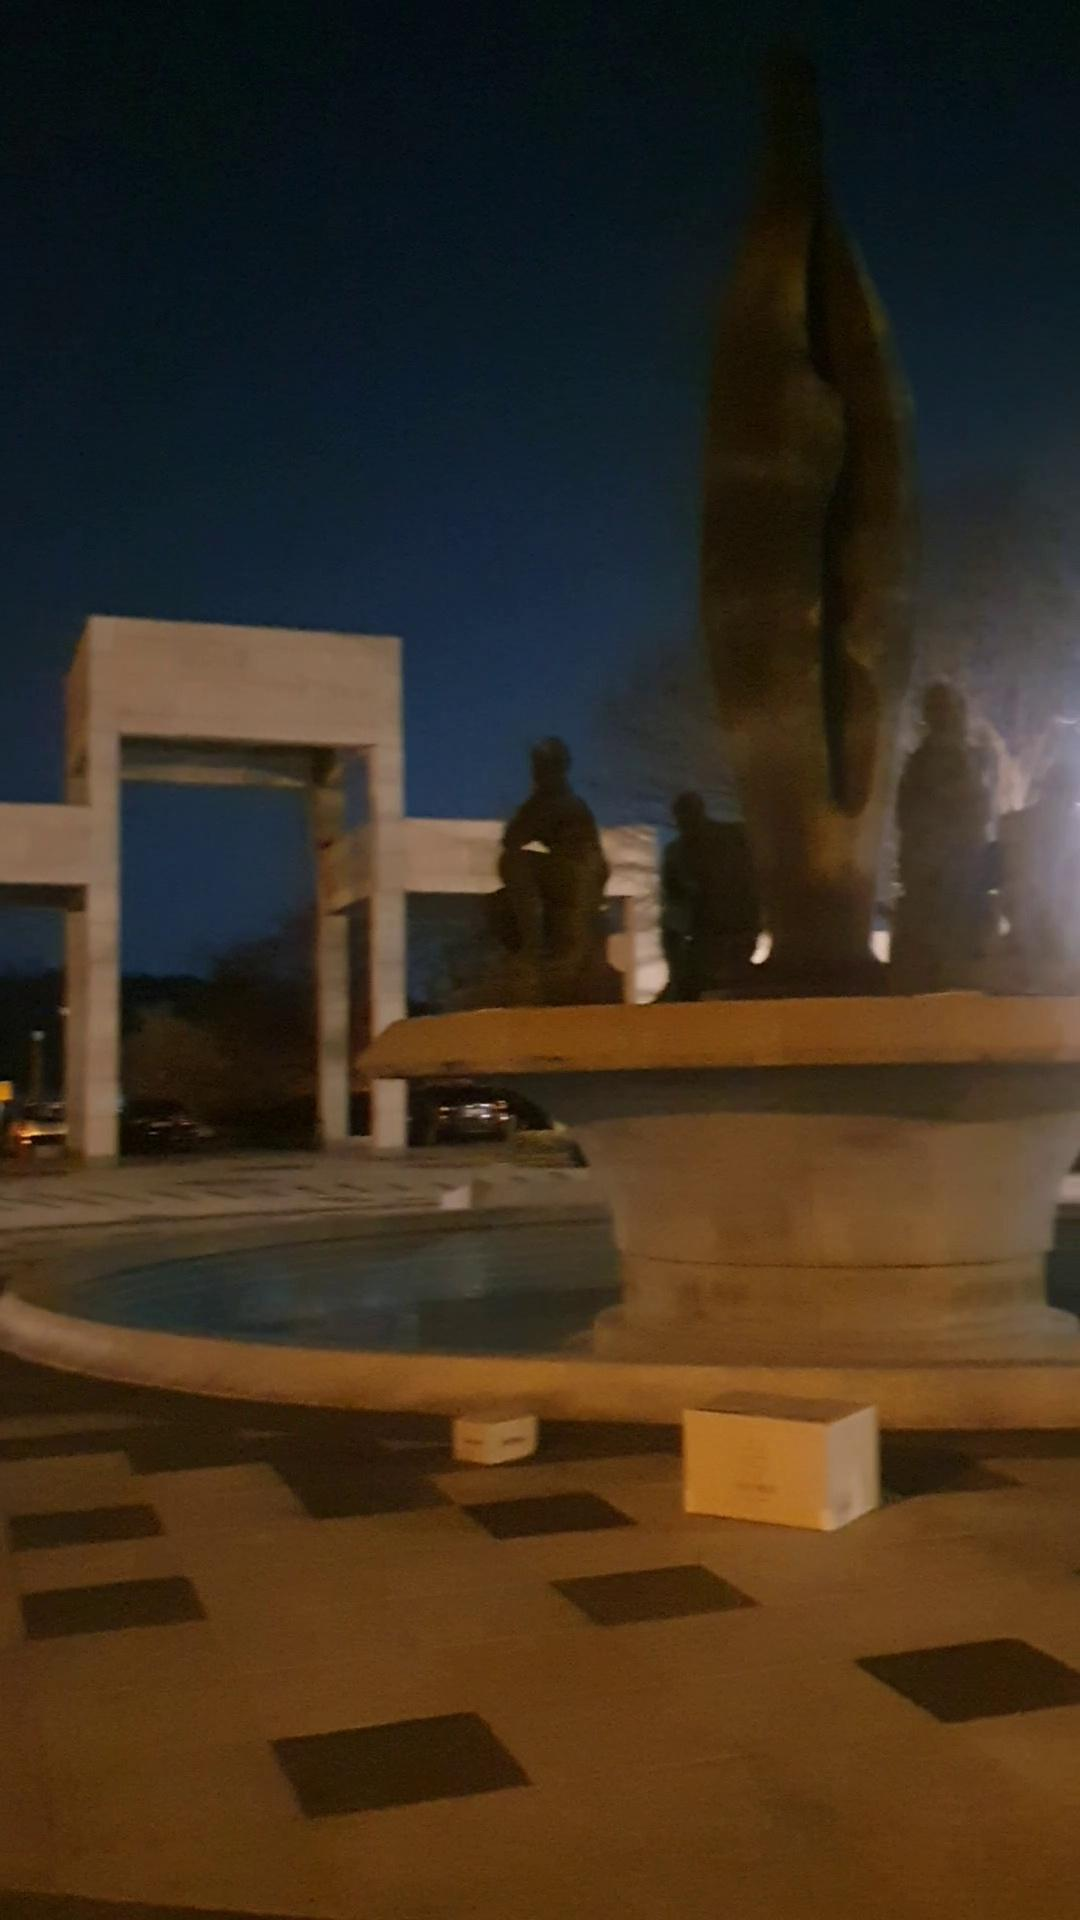Box: (663, 1385, 897, 1527), (440, 1404, 555, 1465)
